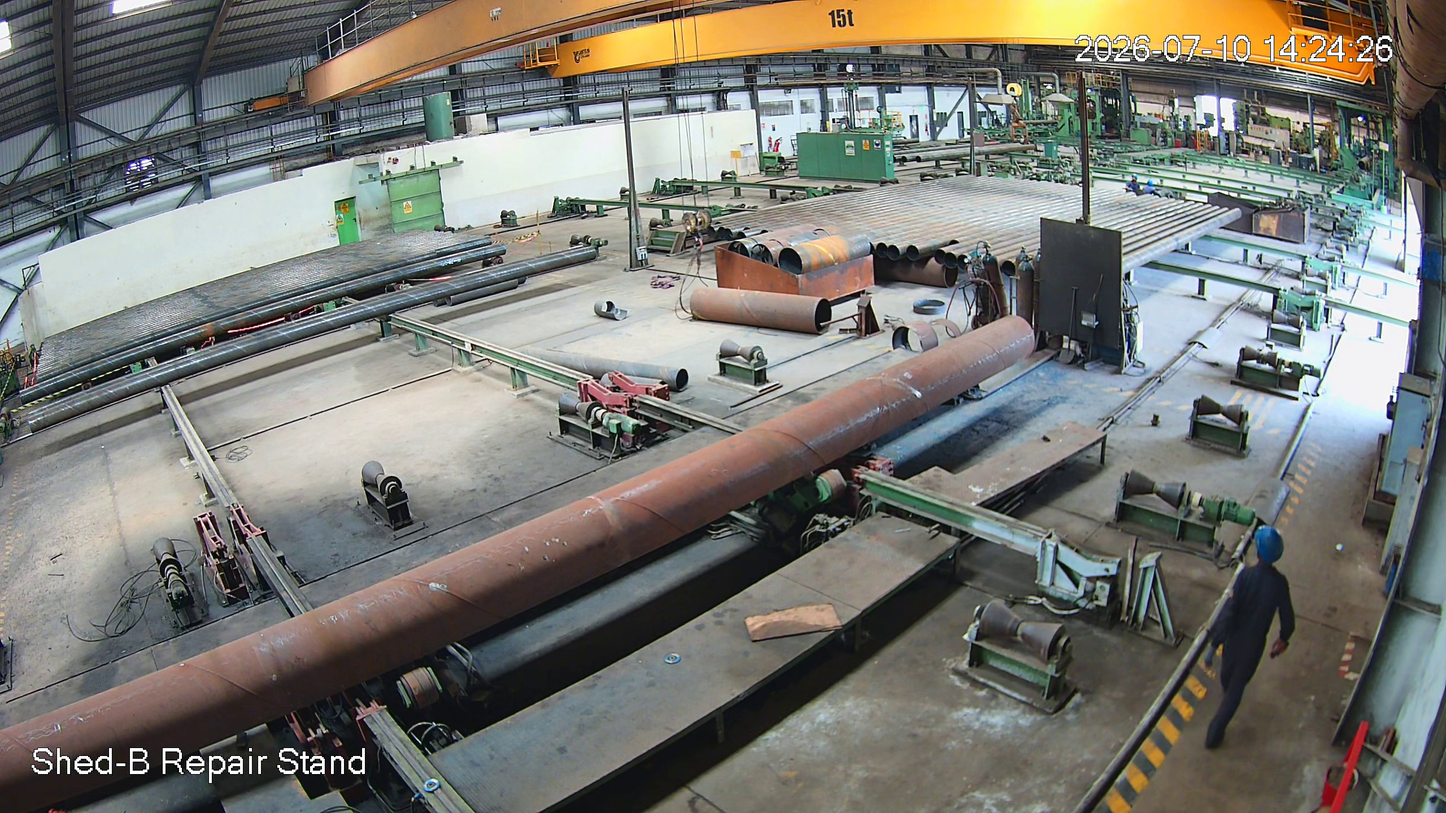Helmet: (1246, 520, 1283, 577)
Person: (1199, 529, 1305, 757)
